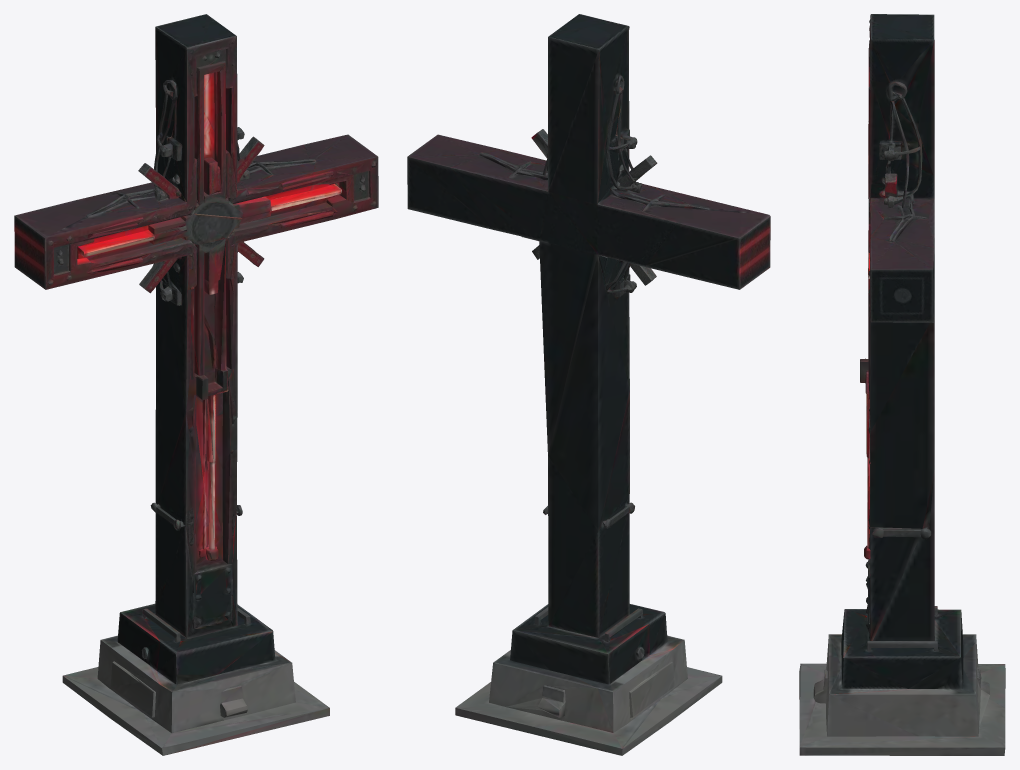
The model's file is mx_pr_neon_cross.glb.
3 renders of one model, left to right at view 1: azimuth 30°, elevation 25°; view 2: azimuth 150°, elevation 25°; view 3: azimuth 270°, elevation 25°, orthographic. The views are drawn at different scales.
Bounding box in the file's own units: 0.9922 × 1.9 × 0.5168.
Materials: 1 (1 with a texture image).
